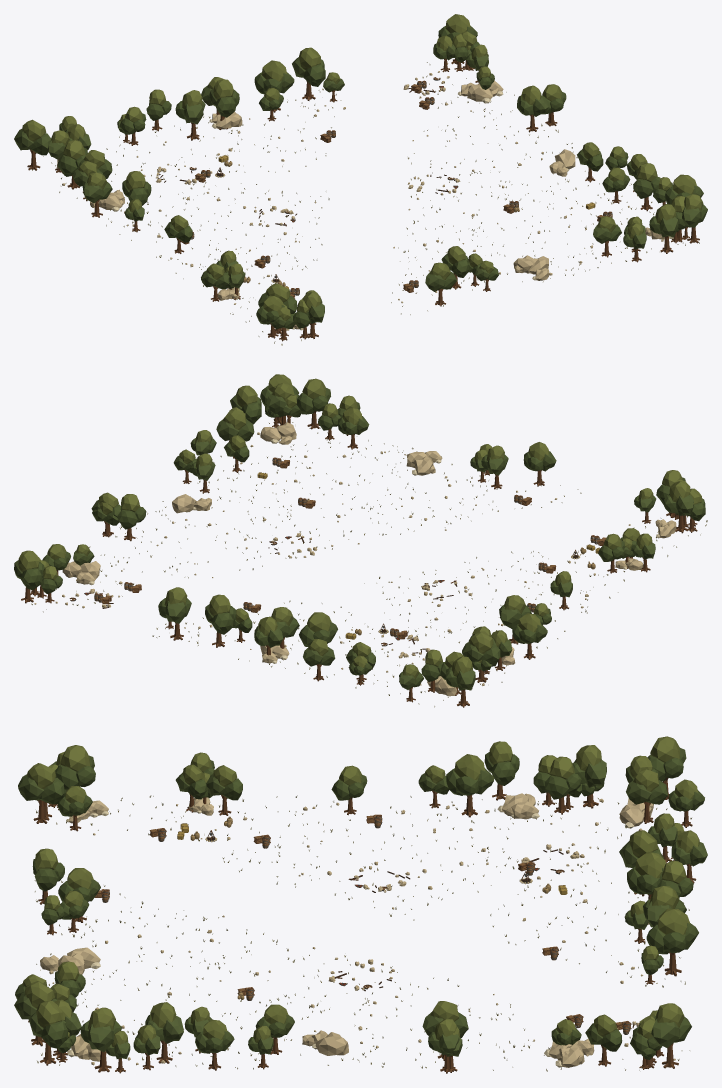
File: world_details.glb
3 renders of one model, top to bottom at view 1: azimuth 30°, elevation 25°; view 2: azimuth 150°, elevation 25°; view 3: azimuth 270°, elevation 25°, orthographic. The views are drawn at different scales.
Visible parts, largest first — view 1: Foliage, Timber, Stone; view 2: Foliage, Stone, Timber; view 3: Foliage, Stone, Timber, Metal.
Part boxes in pixels (<box>): Foliage: <box>14,14,707,345</box>; Timber: <box>27,58,699,341</box>; Stone: <box>56,63,673,330</box>; Foliage: <box>14,374,707,707</box>; Stone: <box>34,422,676,696</box>; Timber: <box>21,411,697,707</box>; Foliage: <box>14,736,707,1071</box>; Stone: <box>40,793,675,1067</box>; Timber: <box>28,777,696,1073</box>; Metal: <box>102,816,630,1034</box>.
Size of the model in its own units: 86.25 by 9.06 by 86.62.
